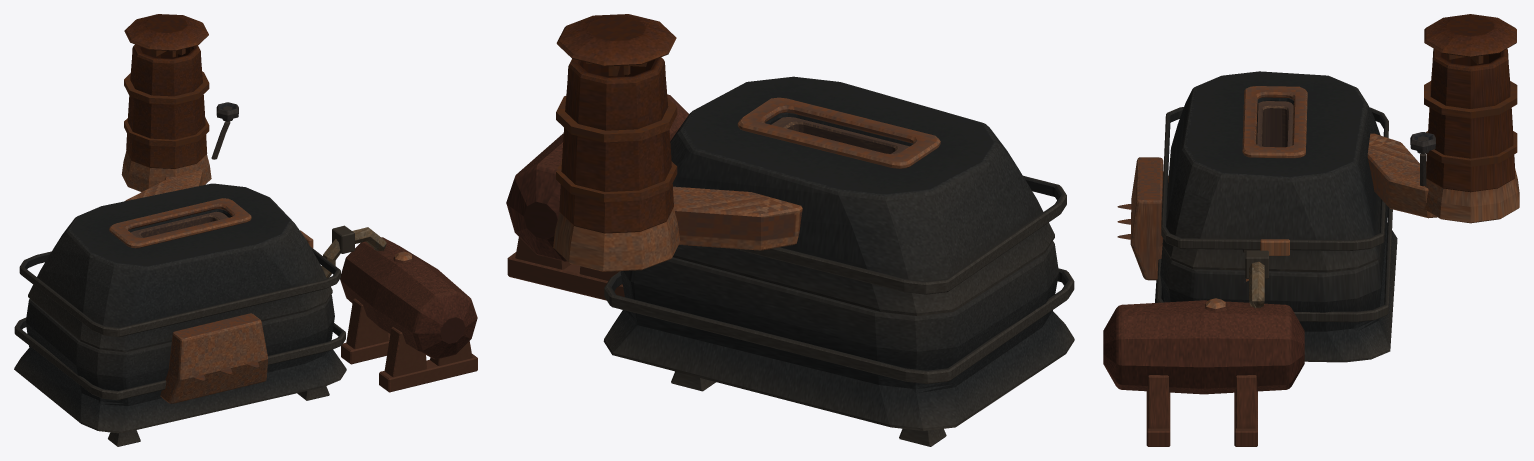
File: refinery_lod0.glb
3 views of the same model, side by side, from view 1: azimuth 30°, elevation 25°; view 2: azimuth 150°, elevation 25°; view 3: azimuth 270°, elevation 25° (orthographic). The views are drawn at different scales.
Visible parts, largest first — view 1: LOD0_refinery; view 2: LOD0_refinery; view 3: LOD0_refinery.
Part boxes in pixels (box(x1,y1,x2,y2)): LOD0_refinery: box(14, 14, 477, 446); LOD0_refinery: box(506, 14, 1074, 446); LOD0_refinery: box(1103, 14, 1519, 446).
Bounding box in the file's own units: 1.66 × 1.22 × 1.41.
3 materials, 1 textured.
